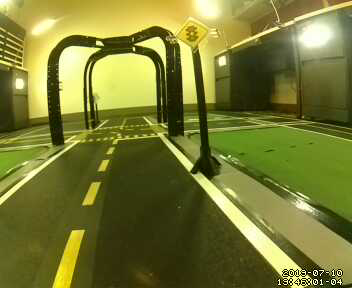Traffic light sign: (175, 17, 208, 50)
